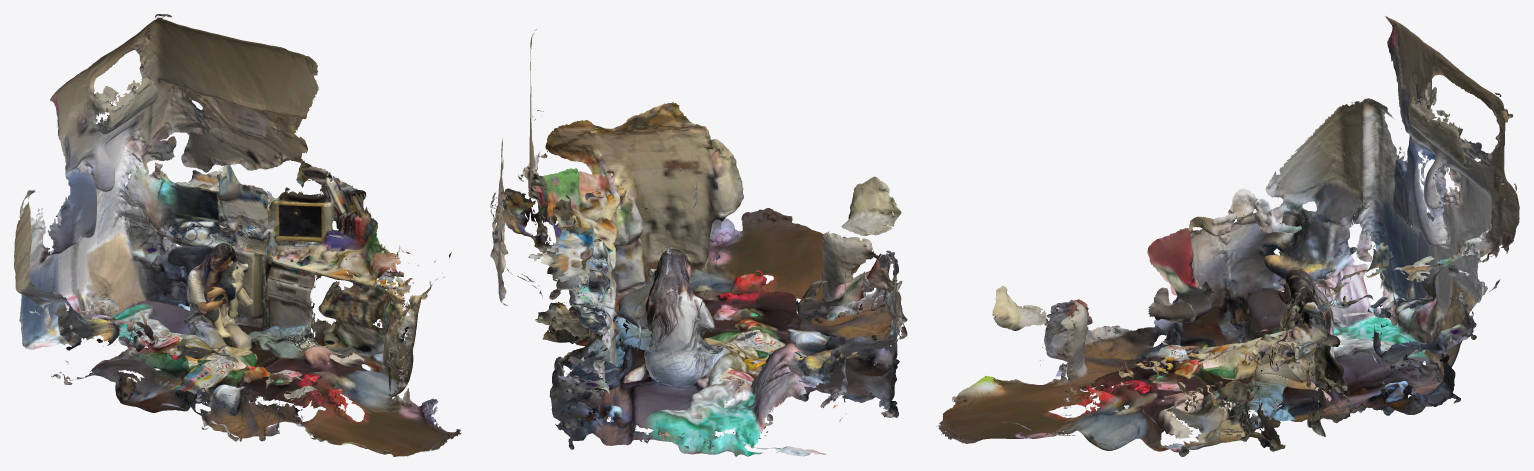
Rendered from AIKO WEB.glb.
3 views of the same model, side by side, from view 1: azimuth 30°, elevation 25°; view 2: azimuth 150°, elevation 25°; view 3: azimuth 270°, elevation 25° (orthographic). The views are drawn at different scales.
Visible parts, largest first — view 1: mesh; view 2: mesh; view 3: mesh.
Part boxes in pixels (x1=…): mesh: x1=14, y1=14, x2=461, y2=456; mesh: x1=490, y1=29, x2=907, y2=456; mesh: x1=936, y1=16, x2=1519, y2=456.
Bounding box in the file's own units: 3.32 × 2.44 × 4.02.
1 material, 1 textured.
